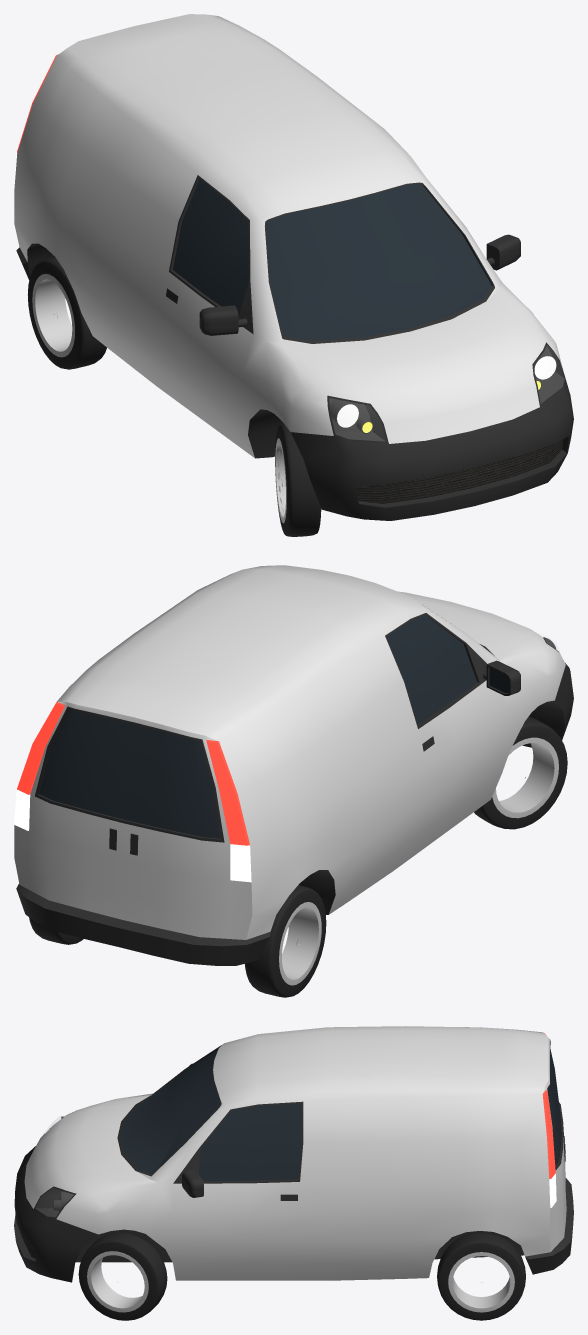
Rendered from car-10.glb.
3 views of the same model, one above another, from view 1: azimuth 30°, elevation 25°; view 2: azimuth 150°, elevation 25°; view 3: azimuth 270°, elevation 25° (orthographic). The views are drawn at different scales.
Visible parts, largest first — view 1: CarBody.009, WheelRL.007, WheelRL.008; view 2: CarBody.009, WheelRL.007, WheelRL.008, WheelRL.005; view 3: CarBody.009, WheelRL.006, WheelRL.005.
Part boxes in pixels (x1,y1,x2,y2): CarBody.009: [14, 14, 573, 520]; WheelRL.007: [28, 257, 106, 369]; WheelRL.008: [275, 424, 321, 536]; CarBody.009: [14, 565, 573, 965]; WheelRL.007: [245, 885, 326, 997]; WheelRL.008: [474, 716, 567, 829]; WheelRL.005: [29, 917, 83, 944]; CarBody.009: [14, 1026, 573, 1282]; WheelRL.006: [78, 1232, 167, 1320]; WheelRL.005: [437, 1232, 525, 1320].
Bounding box in the file's own units: 2.05 × 1.78 × 4.01.
Materials: 10 (1 with a texture image).
